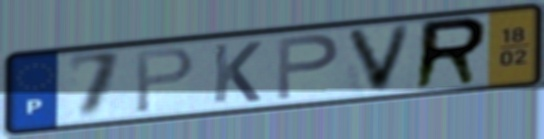7: (65, 52, 124, 122)
K: (210, 39, 264, 106)
P: (274, 32, 342, 103), (132, 45, 197, 116)
R: (409, 14, 491, 93)
V: (342, 22, 417, 96)
